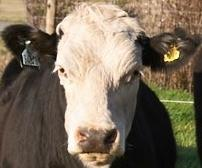muzzles: (63, 121, 125, 166)
